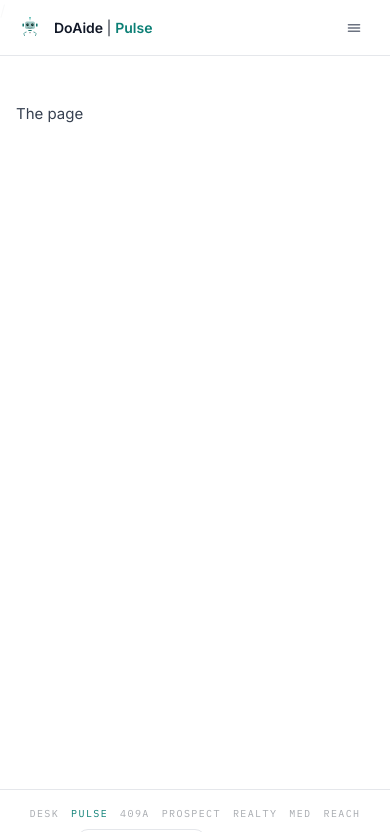
Scenario: the mobile menu › reveals the element it says it controls
Click the button named "Toggle navigation menu" at (354, 28), box [330,4,378,52]
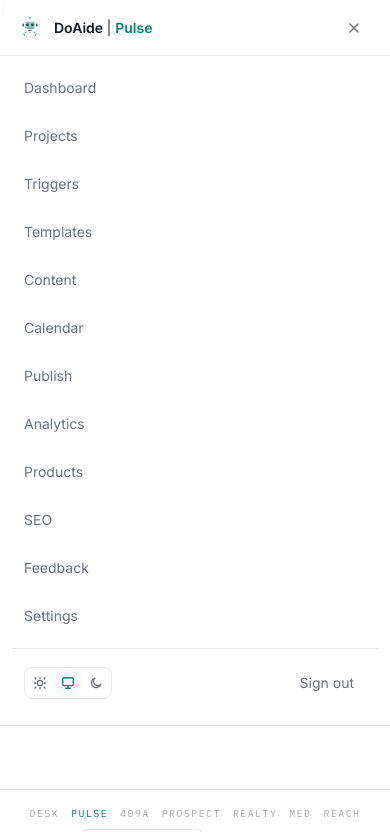
expect the navigation bar with id "mobile-nav" is shown: met
expect the button named "Toggle navigation menu" is expanded: met, box [330,4,378,52]
